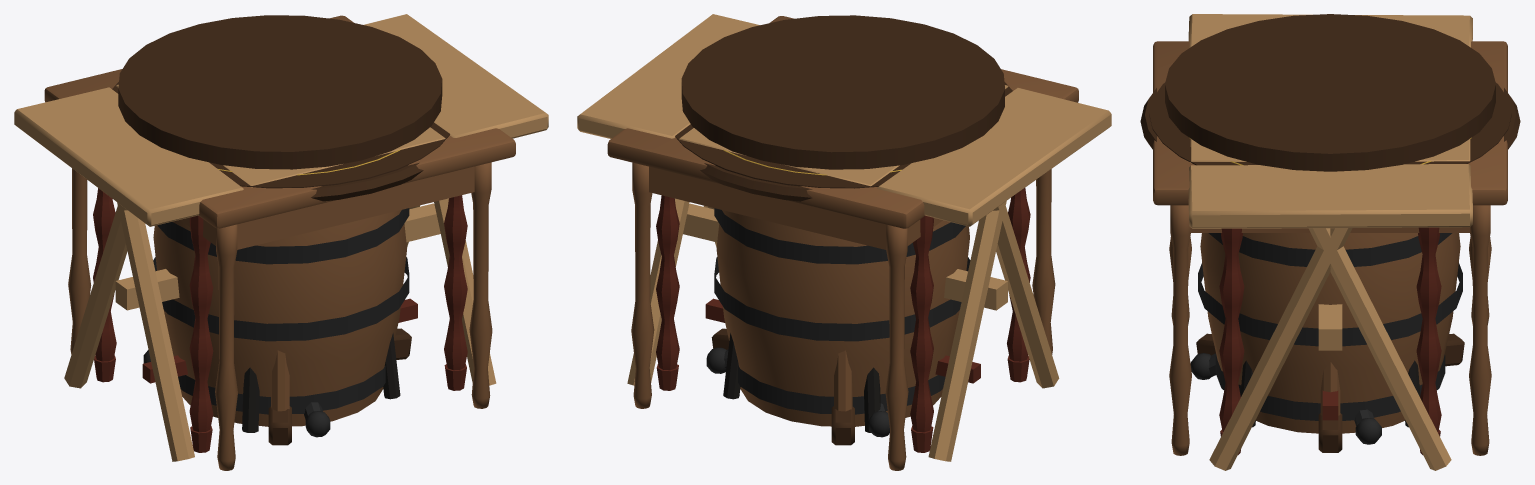
Rendered from tables.glb.
3 views of the same model, side by side, from view 1: azimuth 30°, elevation 25°; view 2: azimuth 150°, elevation 25°; view 3: azimuth 270°, elevation 25° (orthographic). The views are drawn at different scales.
Visible parts, largest first — view 1: table_cask, table_trestle, table_oak_square, table_gateleg, table_round_pedestal, table_copper, table_cricket, table_britannia; view 2: table_cask, table_trestle, table_oak_square, table_gateleg, table_round_pedestal, table_copper, table_britannia, table_cricket; view 3: table_cask, table_trestle, table_oak_square, table_gateleg, table_round_pedestal, table_britannia, table_cricket, table_copper.
Part boxes in pixels (x1=…): table_cask: x1=118, y1=15, x2=442, y2=426; table_trestle: x1=14, y1=14, x2=548, y2=461; table_oak_square: x1=44, y1=15, x2=515, y2=470; table_gateleg: x1=93, y1=188, x2=467, y2=452; table_round_pedestal: x1=112, y1=82, x2=449, y2=445; table_copper: x1=217, y1=149, x2=400, y2=432; table_cricket: x1=271, y1=350, x2=289, y2=411; table_britannia: x1=143, y1=350, x2=330, y2=437; table_cask: x1=681, y1=15, x2=1004, y2=426; table_trestle: x1=577, y1=14, x2=1111, y2=461; table_oak_square: x1=607, y1=16, x2=1078, y2=470; table_gateleg: x1=656, y1=188, x2=1030, y2=452; table_round_pedestal: x1=675, y1=82, x2=1012, y2=445; table_copper: x1=723, y1=149, x2=901, y2=432; table_britannia: x1=706, y1=347, x2=889, y2=437; table_cricket: x1=834, y1=350, x2=852, y2=411; table_cask: x1=1165, y1=14, x2=1495, y2=433; table_trestle: x1=1188, y1=14, x2=1472, y2=470; table_oak_square: x1=1153, y1=41, x2=1507, y2=455; table_gateleg: x1=1219, y1=227, x2=1441, y2=454; table_round_pedestal: x1=1140, y1=82, x2=1520, y2=452; table_britannia: x1=1190, y1=353, x2=1381, y2=444; table_cricket: x1=1320, y1=361, x2=1340, y2=415; table_copper: x1=1189, y1=137, x2=1471, y2=427.
Size of the model in its own units: 1.2 by 0.8675 by 0.964.
